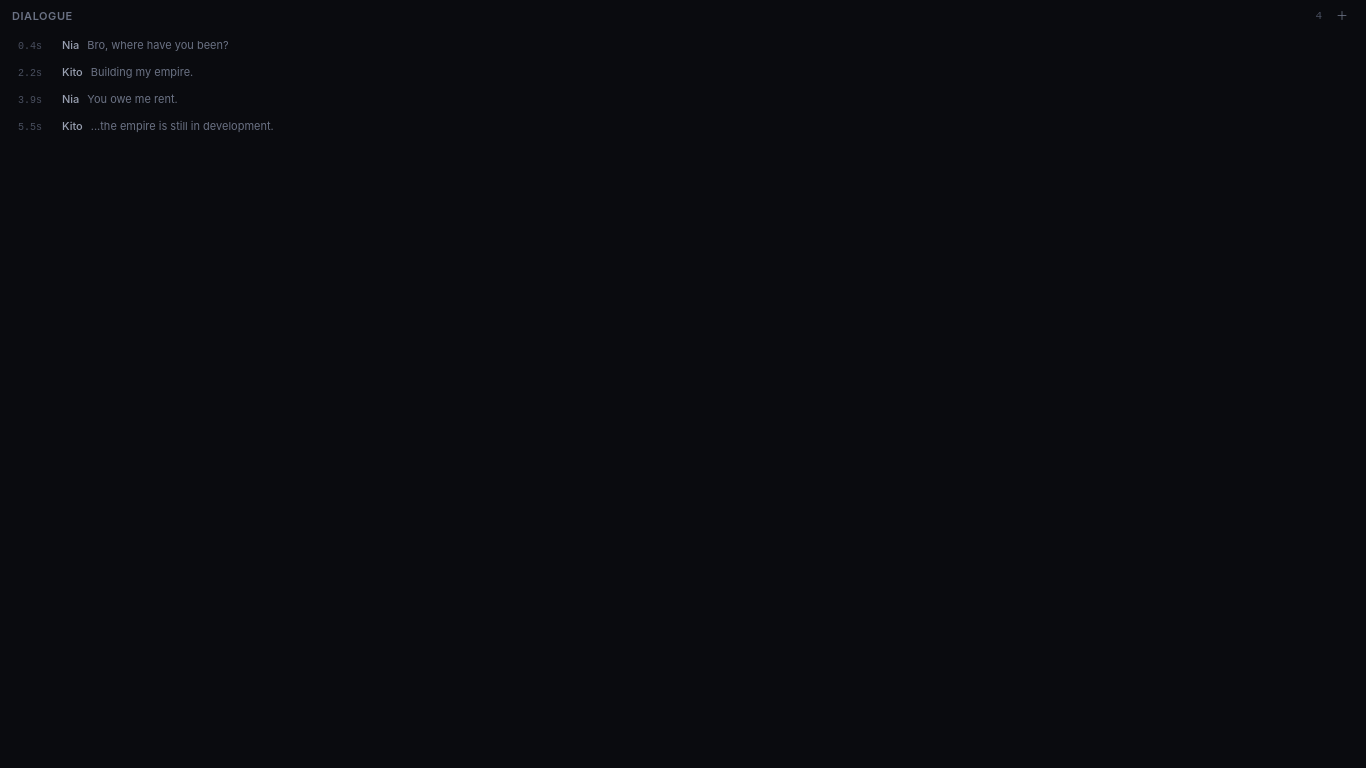
Test: DialoguePanel › lists every line in the scene and opens the one that is clicked
Expected: the 1st text "Nia" is shown, x1=62 y1=36 x2=79 y2=53
Expected: the 1st text "Kito" is shown, x1=62 y1=64 x2=83 y2=80
Click the button "0.4s Nia Bro, where have you been?".
click(158, 44)  # box x1=12 y1=32 x2=1354 y2=58
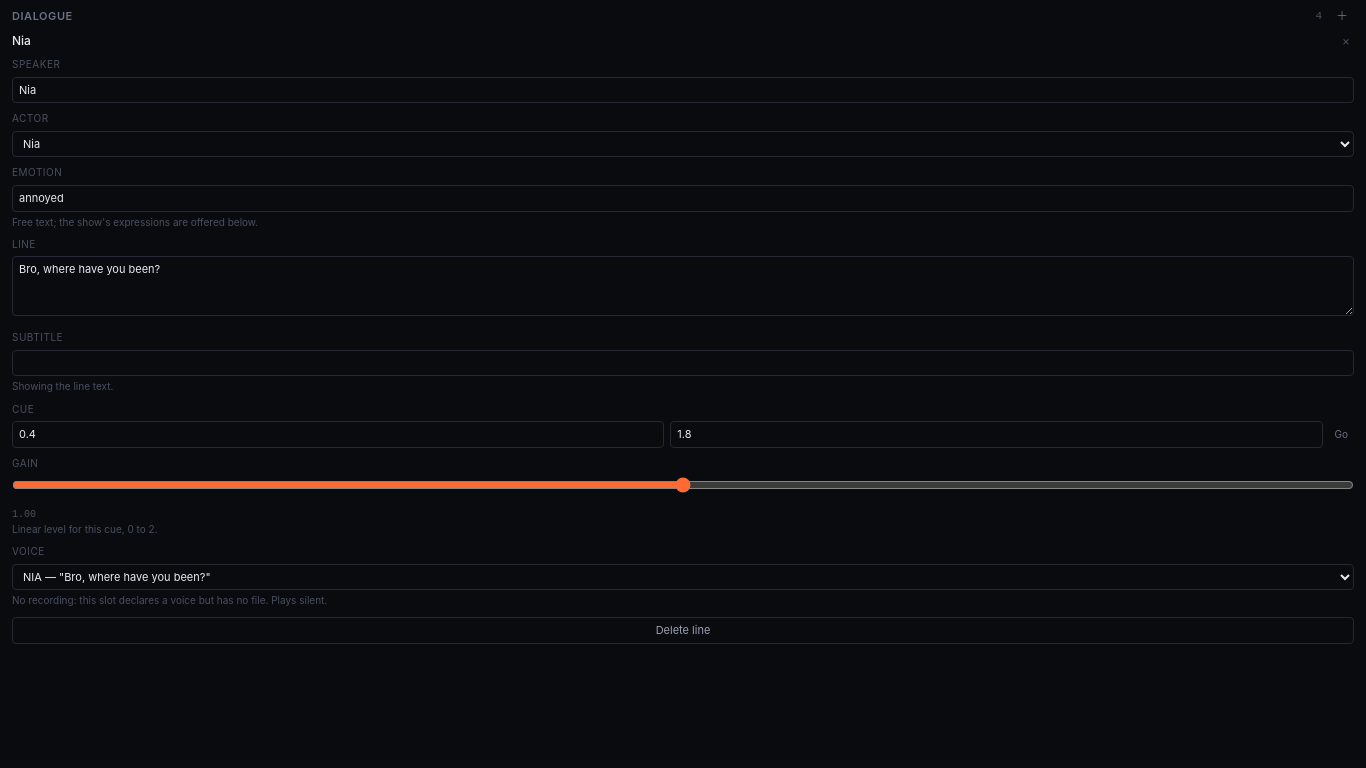
Expected: the text box labelled "Line" holds "Bro, where have you been?", x1=12 y1=256 x2=1354 y2=316
